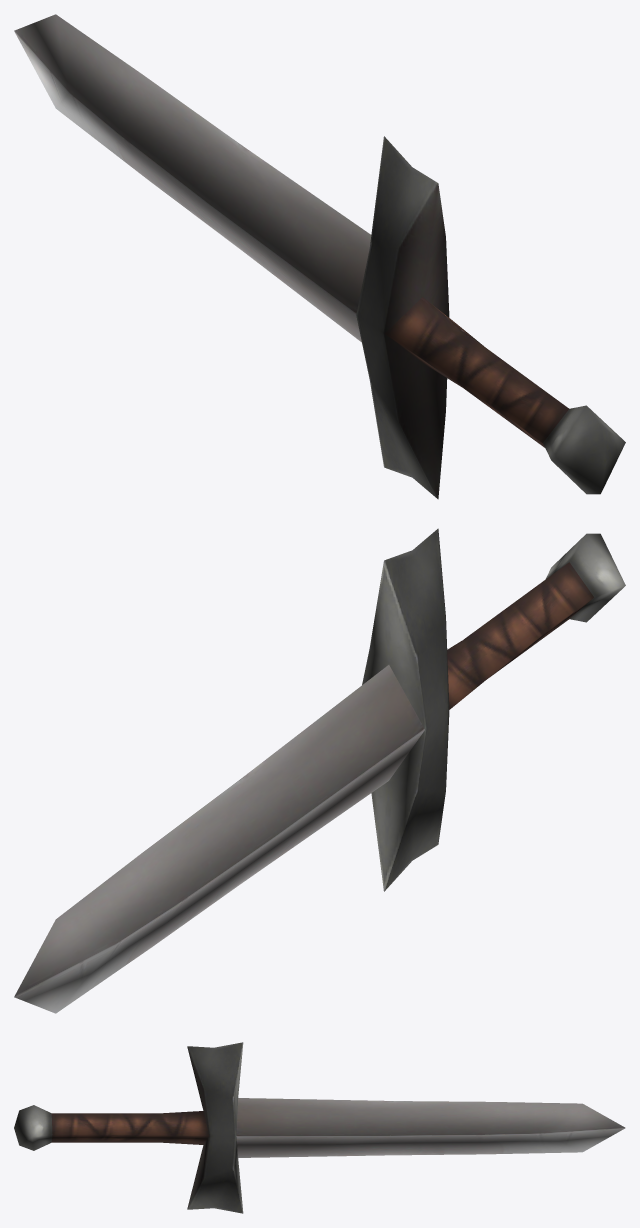
The model's file is 0000_dagger.fbx.
3 renders of one model, top to bottom at view 1: azimuth 30°, elevation 25°; view 2: azimuth 150°, elevation 25°; view 3: azimuth 270°, elevation 25°, orthographic. The views are drawn at different scales.
Parts seen in each view (by area): view 1: 0000_dagger; view 2: 0000_dagger; view 3: 0000_dagger.
Boxes of the visible parts, x1,y1,x2,y2 form: 0000_dagger: [14, 14, 625, 499]; 0000_dagger: [14, 528, 625, 1013]; 0000_dagger: [14, 1042, 625, 1213].
Bounding box in the file's own units: 0.0891 × 0.3778 × 1.22.
